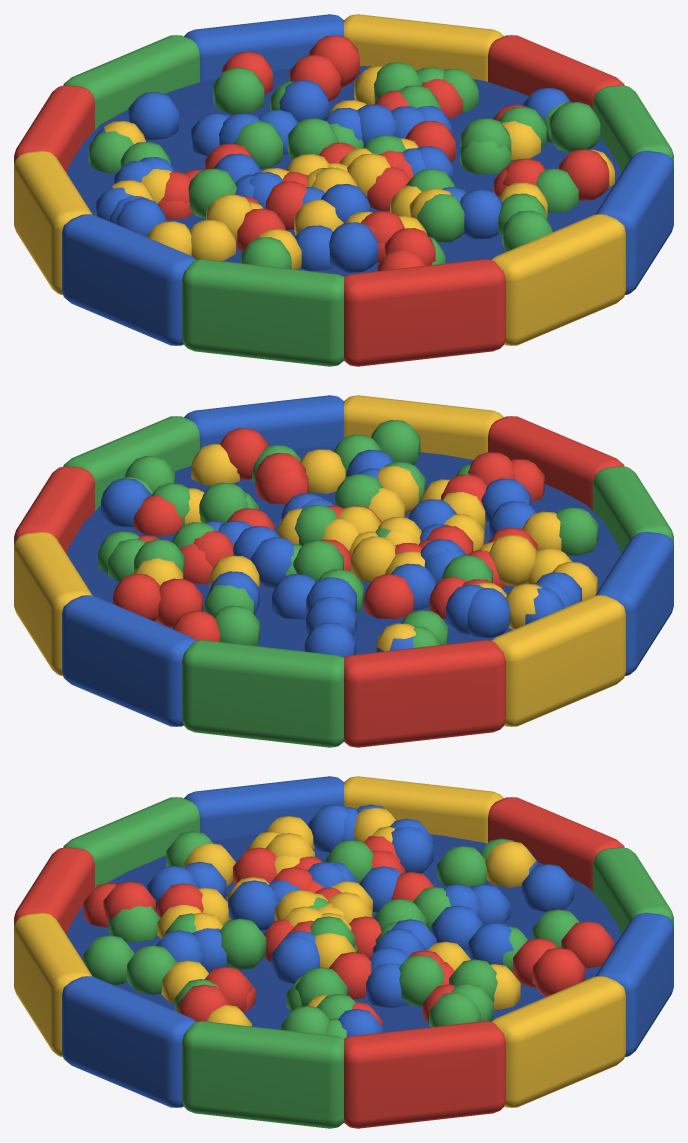
Rendered from toy_ballpit.glb.
3 views of the same model, one above another, from view 1: azimuth 30°, elevation 25°; view 2: azimuth 150°, elevation 25°; view 3: azimuth 270°, elevation 25° (orthographic).
Parts seen in each view (by area): view 1: toy_ballpit; view 2: toy_ballpit; view 3: toy_ballpit.
Boxes of the visible parts, bbox=[...] form: toy_ballpit: bbox=[14, 14, 673, 366]; toy_ballpit: bbox=[14, 395, 673, 747]; toy_ballpit: bbox=[14, 776, 673, 1128].
Bounding box in the file's own units: 8.59 × 1.33 × 8.59.
